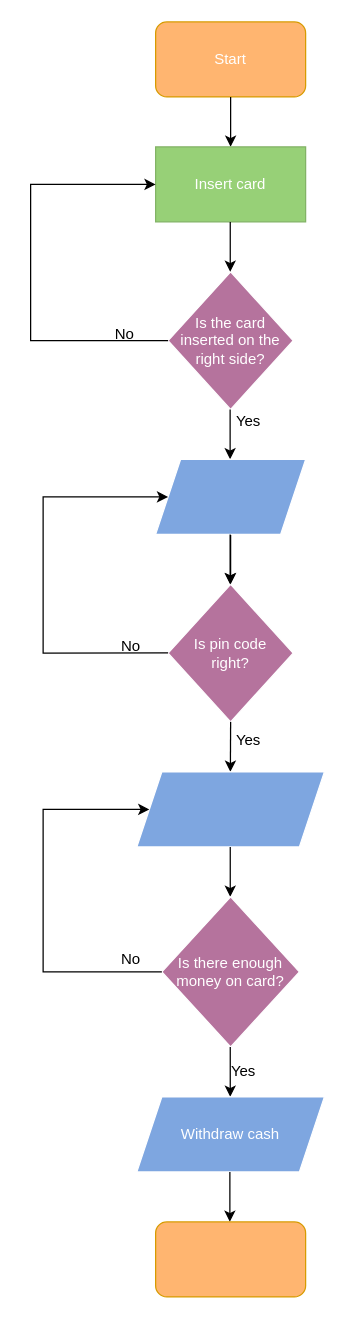
The diagram is 346 pixels wide and 1319 high, and some of its shapes have lost their labels. Each missing label, with the centre of its shape:
"End" belongs at (x=230, y=1259).
"Enter pin code" belongs at (x=230, y=496).
"Enter the amount of cash" belongs at (x=230, y=809).
